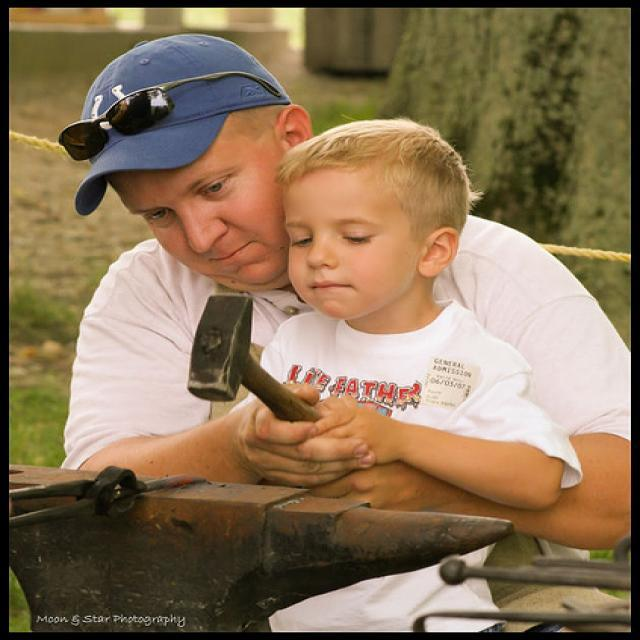hammer: (182, 284, 330, 426)
